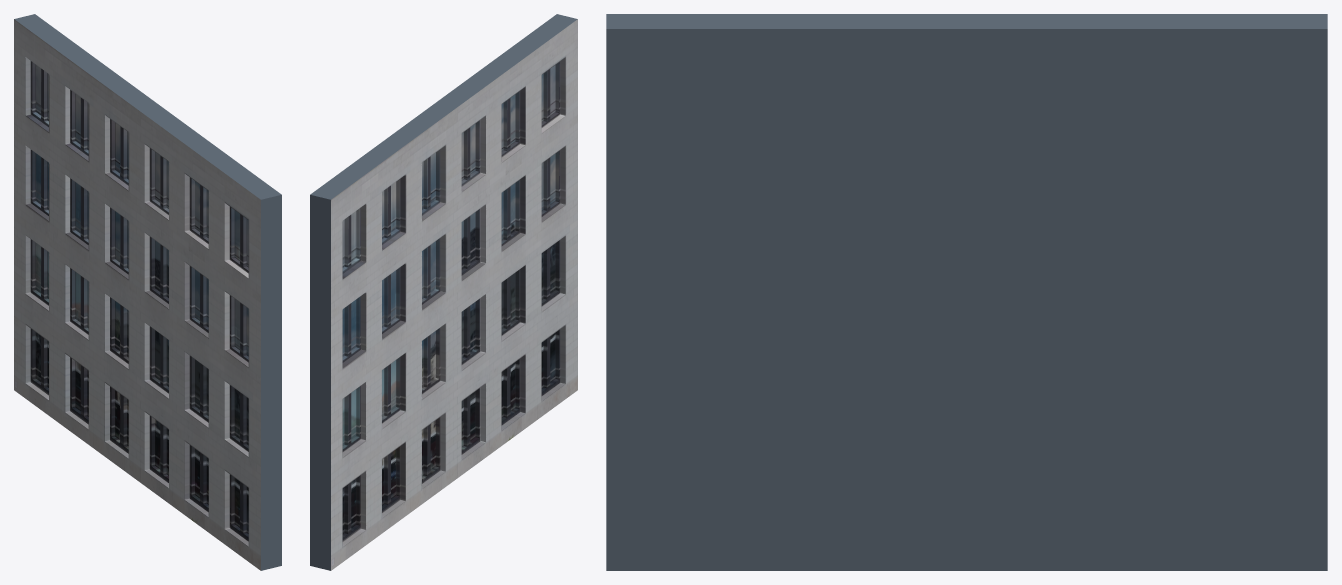
File: facade7.fbx
3 views of the same model, side by side, from view 1: azimuth 30°, elevation 25°; view 2: azimuth 150°, elevation 25°; view 3: azimuth 270°, elevation 25° (orthographic). The views are drawn at different scales.
Parts seen in each view (by area): view 1: facade7; view 2: facade7; view 3: facade7.
Boxes of the visible parts, <box> form: facade7: <box>14,14,281,570</box>; facade7: <box>310,14,577,570</box>; facade7: <box>606,14,1327,570</box>.
Size of the model in its own units: 3.92 by 66.45 by 80.11.
Materials: 2 (2 with a texture image).
